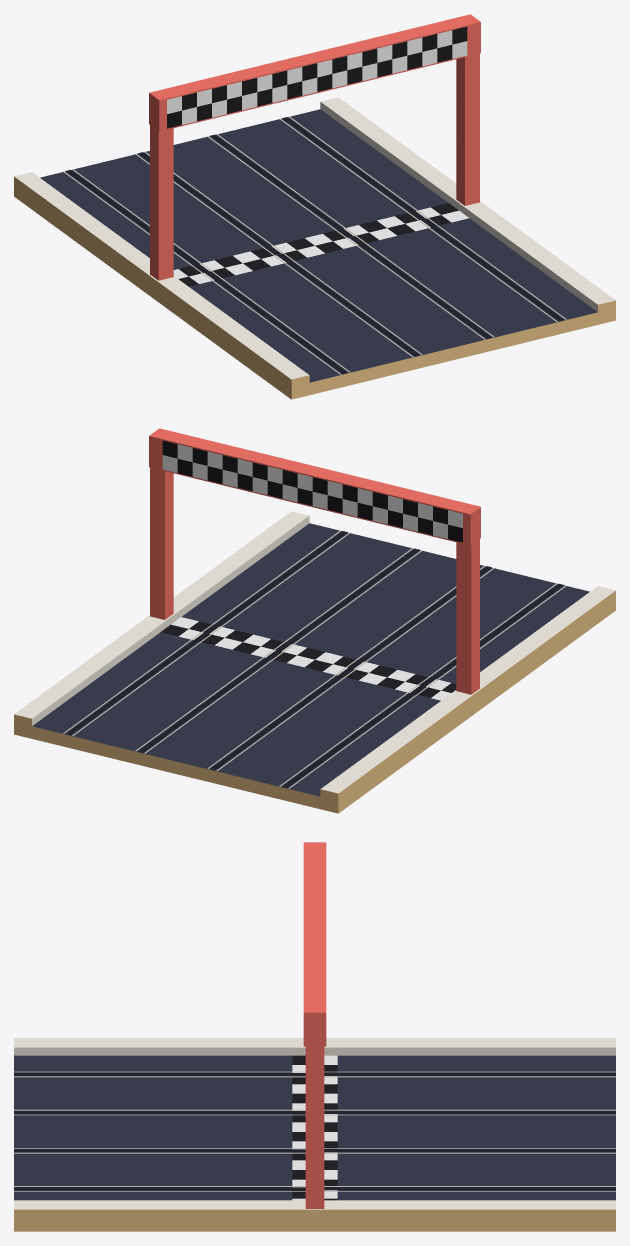
File: Track_4L_StartFinish.fbx
3 renders of one model, top to bottom at view 1: azimuth 30°, elevation 25°; view 2: azimuth 150°, elevation 25°; view 3: azimuth 270°, elevation 25°, orthographic. The views are drawn at different scales.
Visible parts, largest first — view 1: Track_4L_StartFinish, Track_4L_StartFinish_Gate; view 2: Track_4L_StartFinish, Track_4L_StartFinish_Gate; view 3: Track_4L_StartFinish, Track_4L_StartFinish_Gate.
Part boxes in pixels (x1,y1,x2,y2): Track_4L_StartFinish: (14, 97, 615, 399); Track_4L_StartFinish_Gate: (149, 14, 480, 280); Track_4L_StartFinish: (14, 511, 615, 813); Track_4L_StartFinish_Gate: (149, 428, 480, 694); Track_4L_StartFinish: (14, 1038, 615, 1231); Track_4L_StartFinish_Gate: (303, 842, 326, 1208).
Bounding box in the file's own units: 5.4 × 3.2 × 8.
